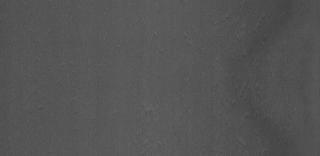silk spot: (210, 25, 254, 77), (141, 30, 199, 54)
